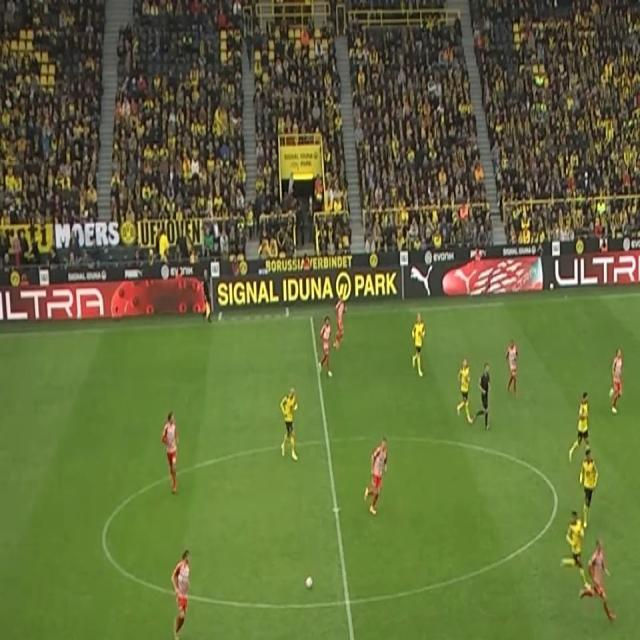ball: (305, 574, 314, 590)
